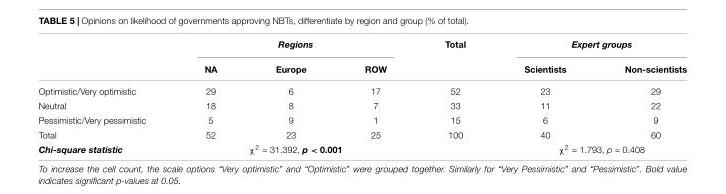table: (37, 37, 686, 154)
table column: (37, 37, 174, 154), (494, 37, 594, 154), (594, 37, 686, 154), (245, 37, 334, 154), (334, 37, 415, 154), (415, 37, 494, 154), (174, 37, 245, 154)
table column header: (37, 37, 686, 79)
table row: (37, 55, 686, 79), (37, 37, 686, 55), (37, 79, 686, 97), (37, 97, 686, 112), (37, 112, 686, 126), (37, 126, 686, 140), (37, 140, 686, 154)
table spanning cell: (174, 37, 415, 55), (494, 37, 686, 55), (174, 140, 415, 154), (415, 37, 494, 79), (494, 140, 686, 154)
